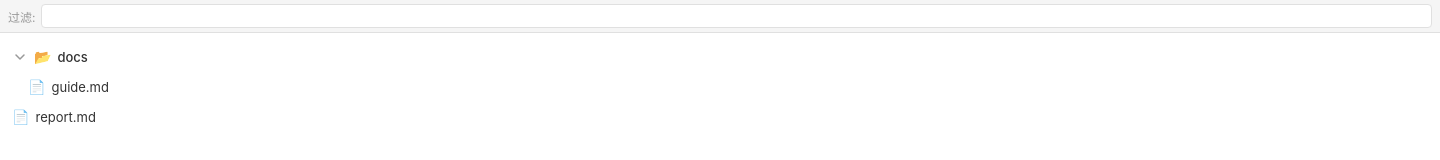
FileTree › 隐式文件过滤 › 默认显示过滤输入框，并可通过真实输入框过滤文件树
Type "re" into the field named "文件过滤". click: (737,16)
box: [42,4,1432,28]
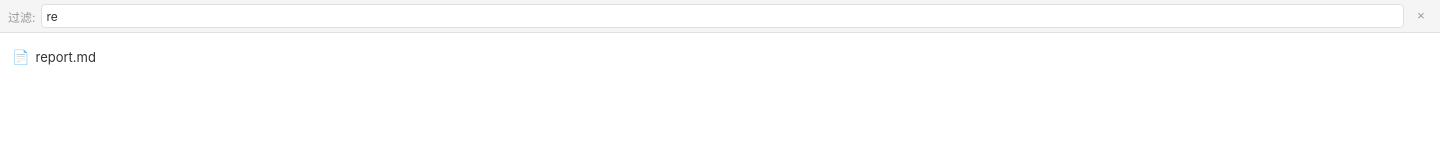
Expected: the text "过滤:" is shown, [8,8,36,24]
Result: the text "guide.md" is gone
